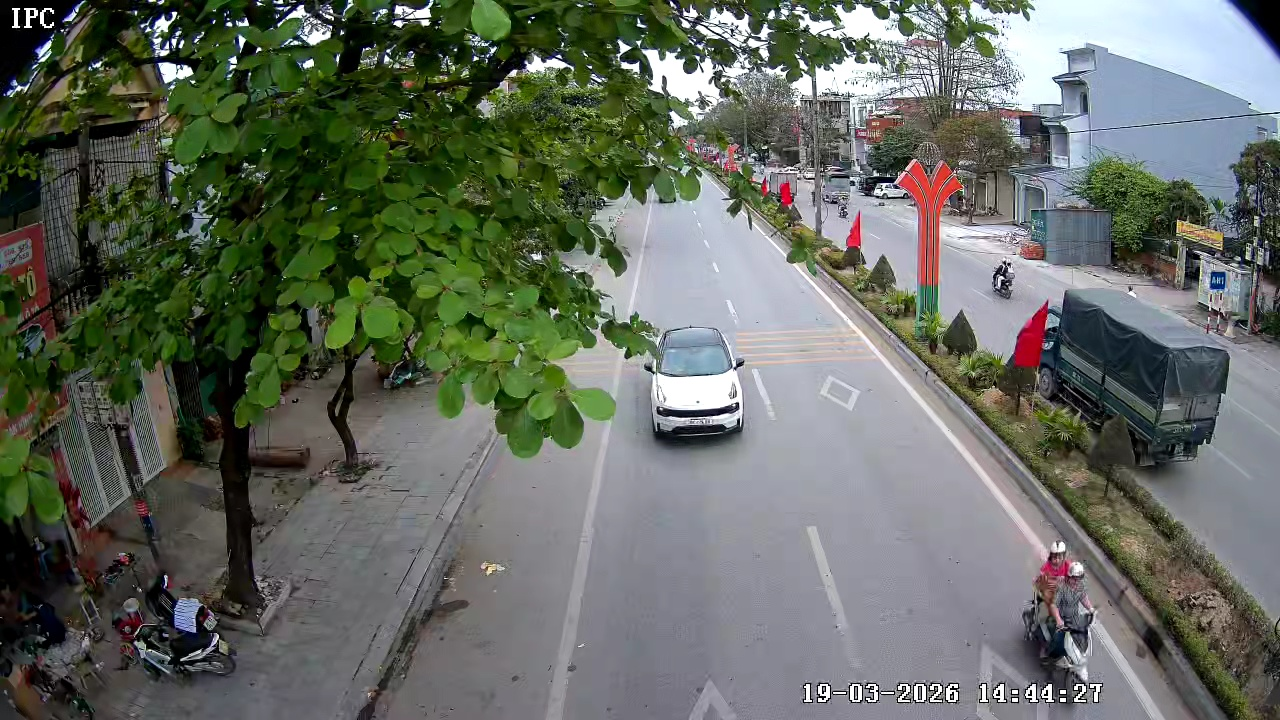car: (643, 325, 747, 440)
motorbike: (1033, 556, 1105, 710), (133, 586, 240, 684), (990, 257, 1017, 300)
truck: (1036, 284, 1234, 468)
